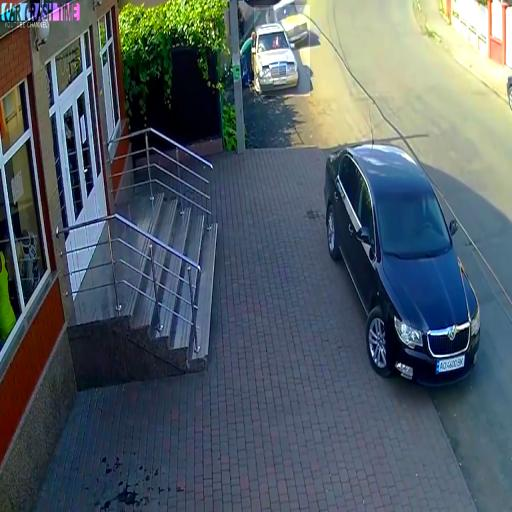小汽车: (324, 149, 476, 383)
小汽车撞小汽车: (254, 5, 310, 96)
